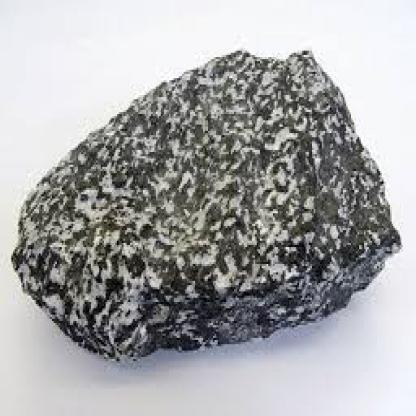Igneous_Diorite: (13, 43, 405, 368)
